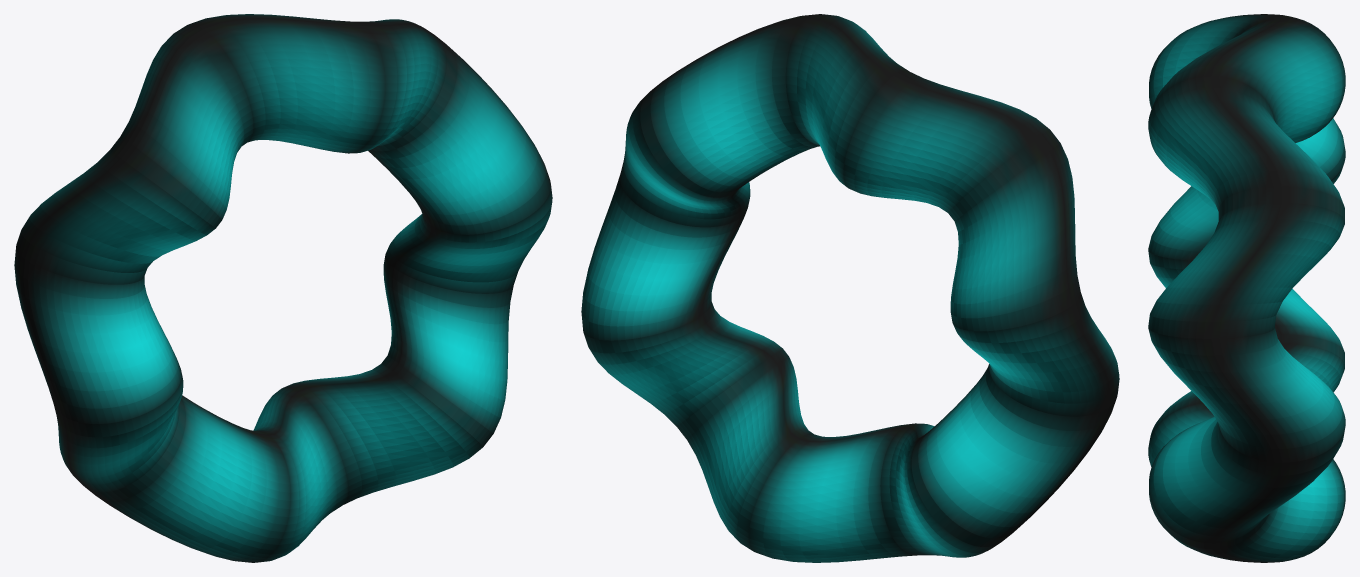
File: step_8.glb
3 views of the same model, side by side, from view 1: azimuth 30°, elevation 25°; view 2: azimuth 150°, elevation 25°; view 3: azimuth 270°, elevation 25° (orthographic). The views are drawn at different scales.
Visible parts, largest first — view 1: world; view 2: world; view 3: world.
Part boxes in pixels (<box>): world: <box>14,14,552,562</box>; world: <box>581,14,1119,562</box>; world: <box>1148,14,1345,562</box>.
Size of the model in its own units: 26 by 26 by 9.35.
